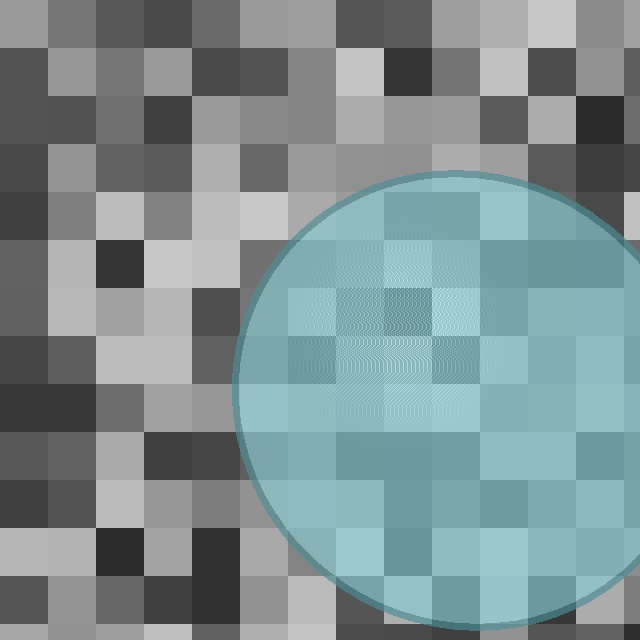lens: (235, 174, 640, 626)
